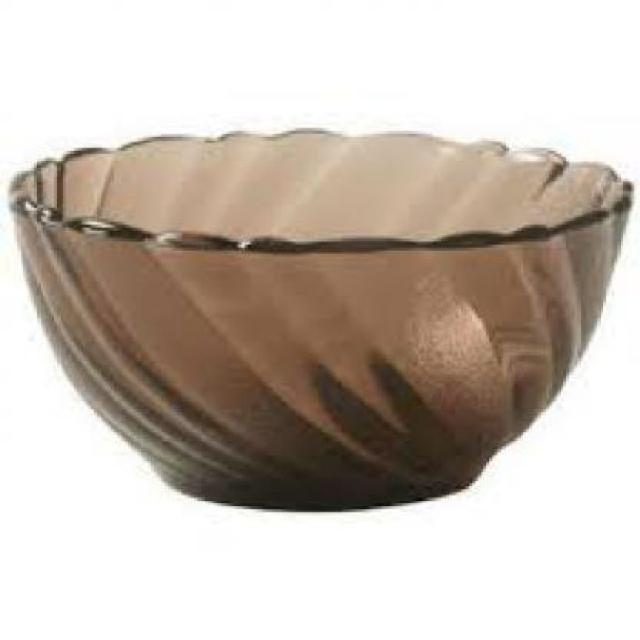kaca: (6, 125, 632, 509)
